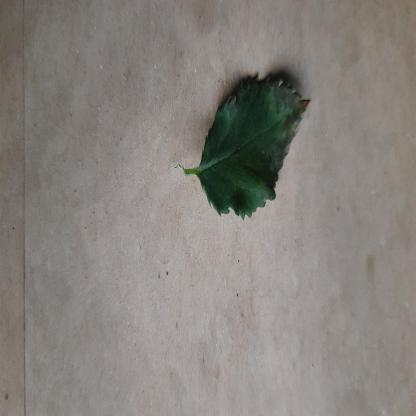downy-mildew: (197, 70, 310, 220)
